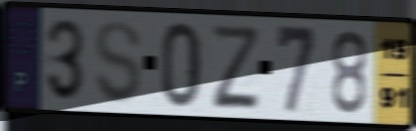0: (159, 19, 204, 111)
3: (44, 16, 87, 103)
7: (276, 22, 318, 117)
8: (331, 28, 368, 116)
S: (92, 18, 144, 107)
Z: (208, 21, 262, 111)
